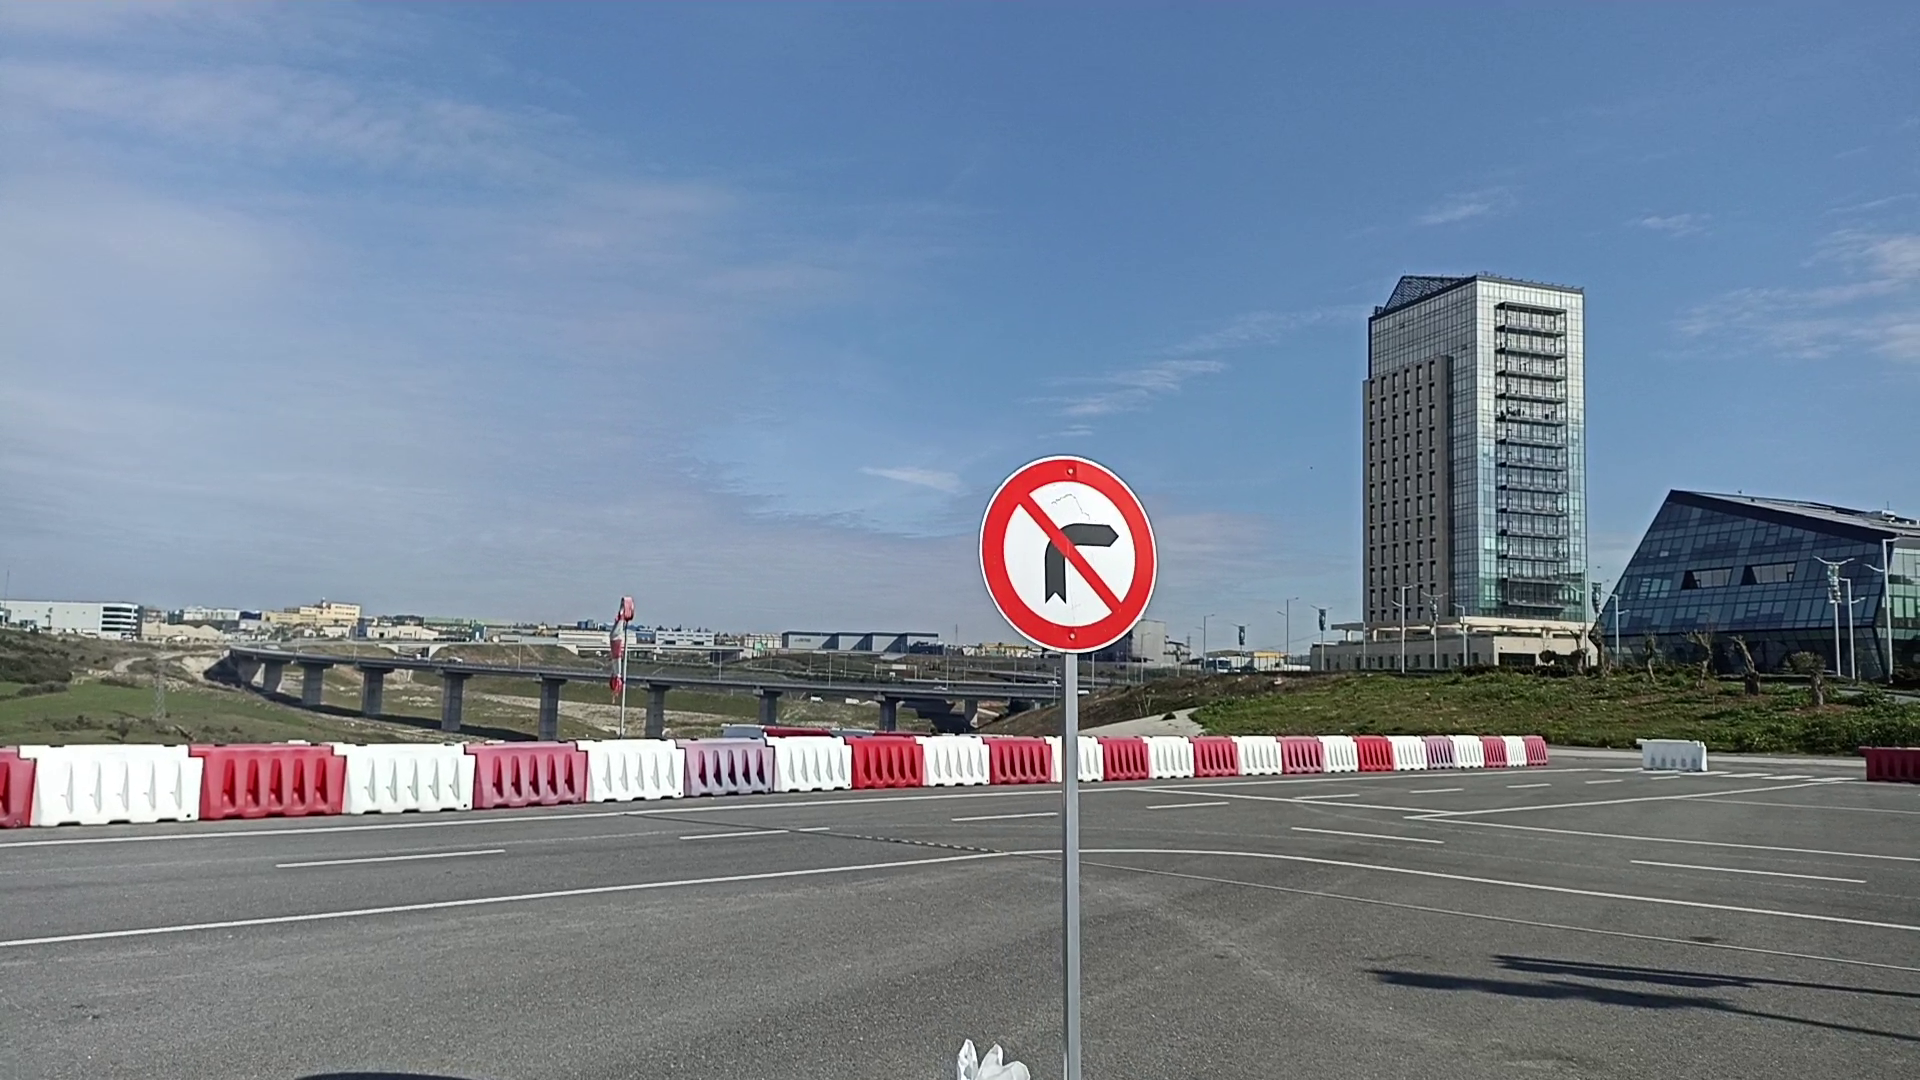noleftturn: (977, 452, 1160, 657)
